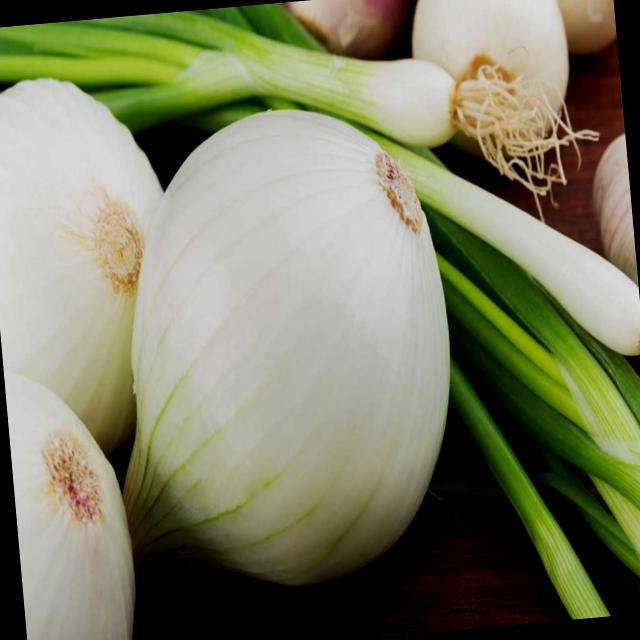onion: (80, 92, 487, 610), (0, 45, 168, 434)
